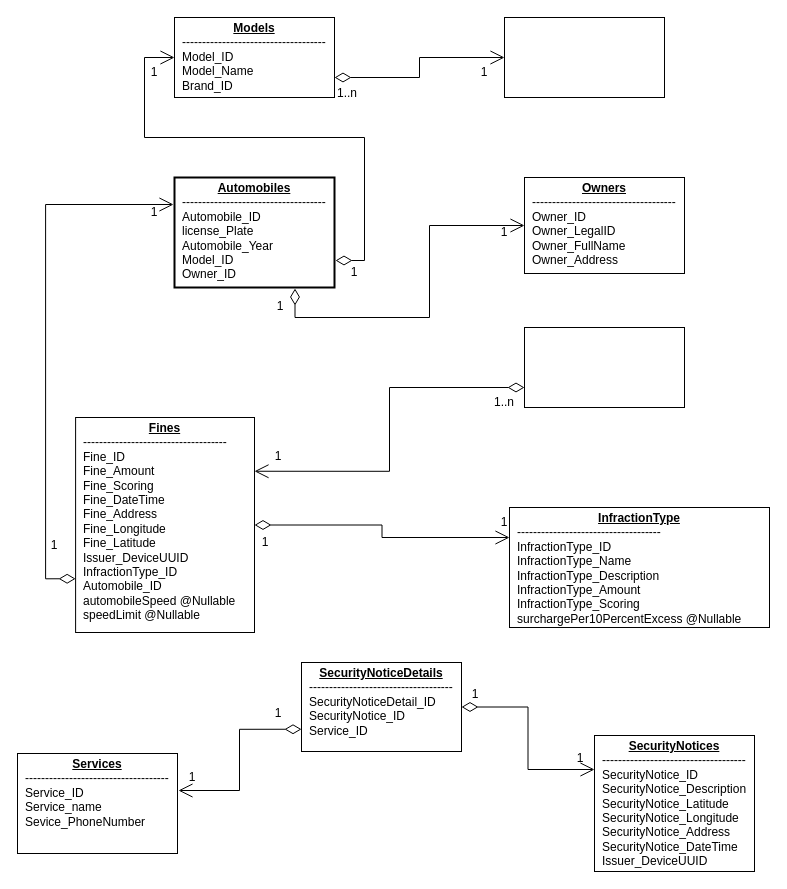
Some shapes in this 787 by 889 pixel diagram are drawn without their labels. Here are the shapes that lost their labels. From the top down, the centre of each, then its label:
point 584,57: Brands ------------------------------------ Brand_ID Brand_Name
point 604,367: Photos ------------------------------------ Photo_ID Photo_Path Fine_ID
